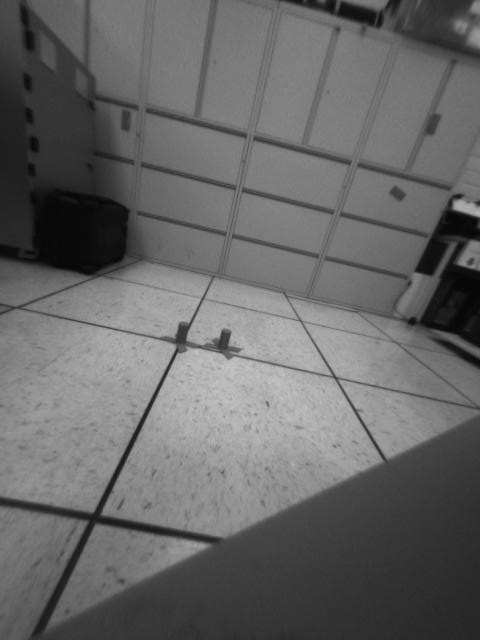X: (202, 328, 245, 363), (157, 321, 202, 354)
